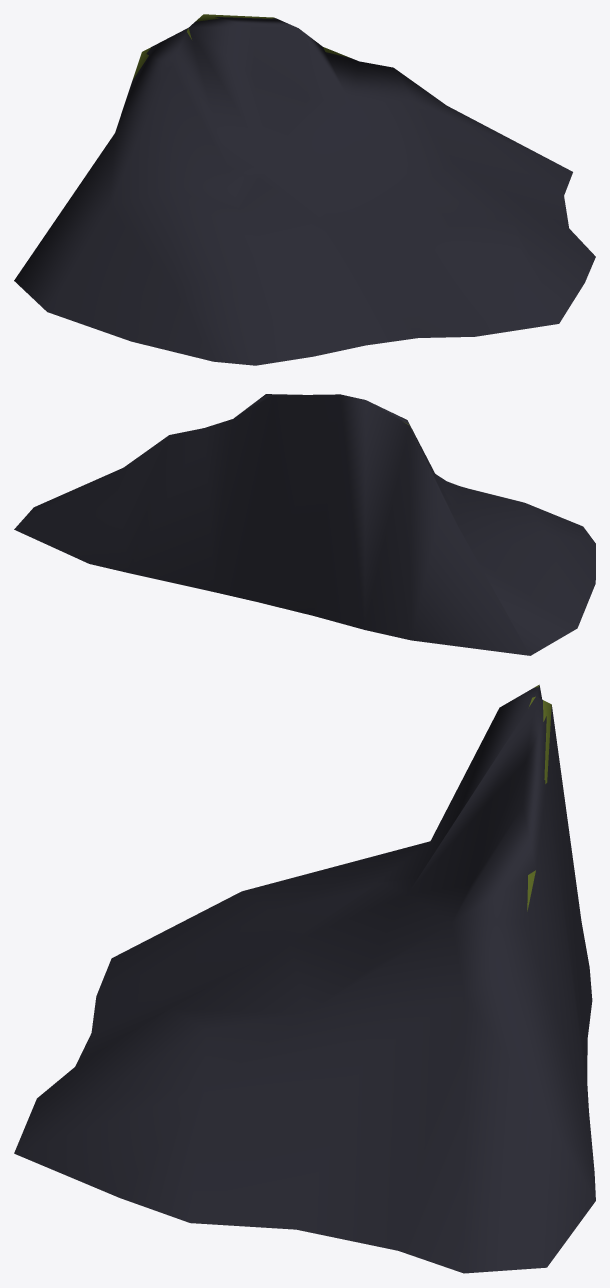
Rendered from SM_Env_Grass_WallEdge_01.fbx.
3 views of the same model, one above another, from view 1: azimuth 30°, elevation 25°; view 2: azimuth 150°, elevation 25°; view 3: azimuth 270°, elevation 25° (orthographic). The views are drawn at different scales.
Visible parts, largest first — view 1: SM_Env_Grass_WallEdge_01_Outline, SM_Env_Grass_WallEdge_01; view 2: SM_Env_Grass_WallEdge_01_Outline; view 3: SM_Env_Grass_WallEdge_01_Outline.
Part boxes in pixels (x1,y1,x2,y2): SM_Env_Grass_WallEdge_01_Outline: (14, 17, 595, 365); SM_Env_Grass_WallEdge_01: (132, 14, 349, 80); SM_Env_Grass_WallEdge_01_Outline: (14, 394, 595, 655); SM_Env_Grass_WallEdge_01_Outline: (14, 685, 595, 1273).
Bounding box in the file's own units: 1037 × 403 × 657.
